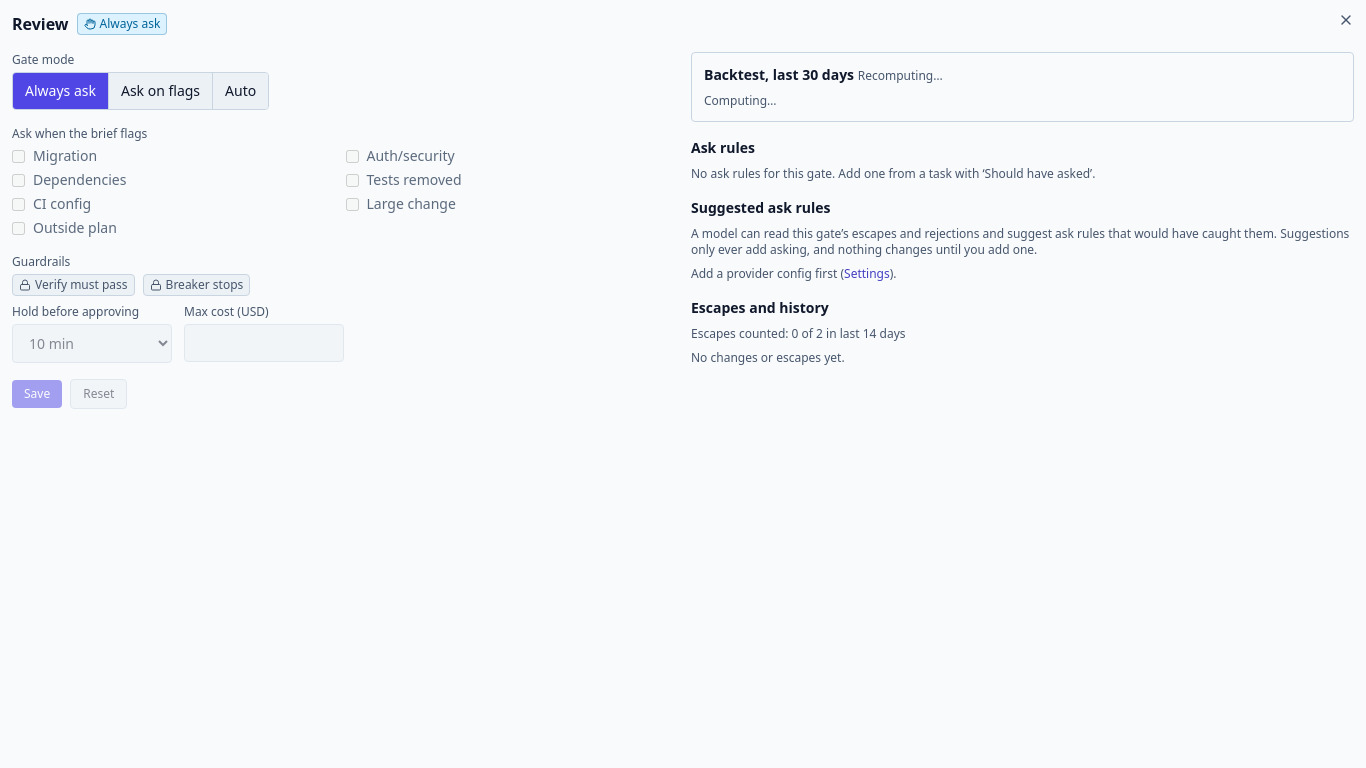
Test case: GateDialPanel › shows server errors inline
Click the radio button labelled "Auto": (240, 91) [212,73,268,109]
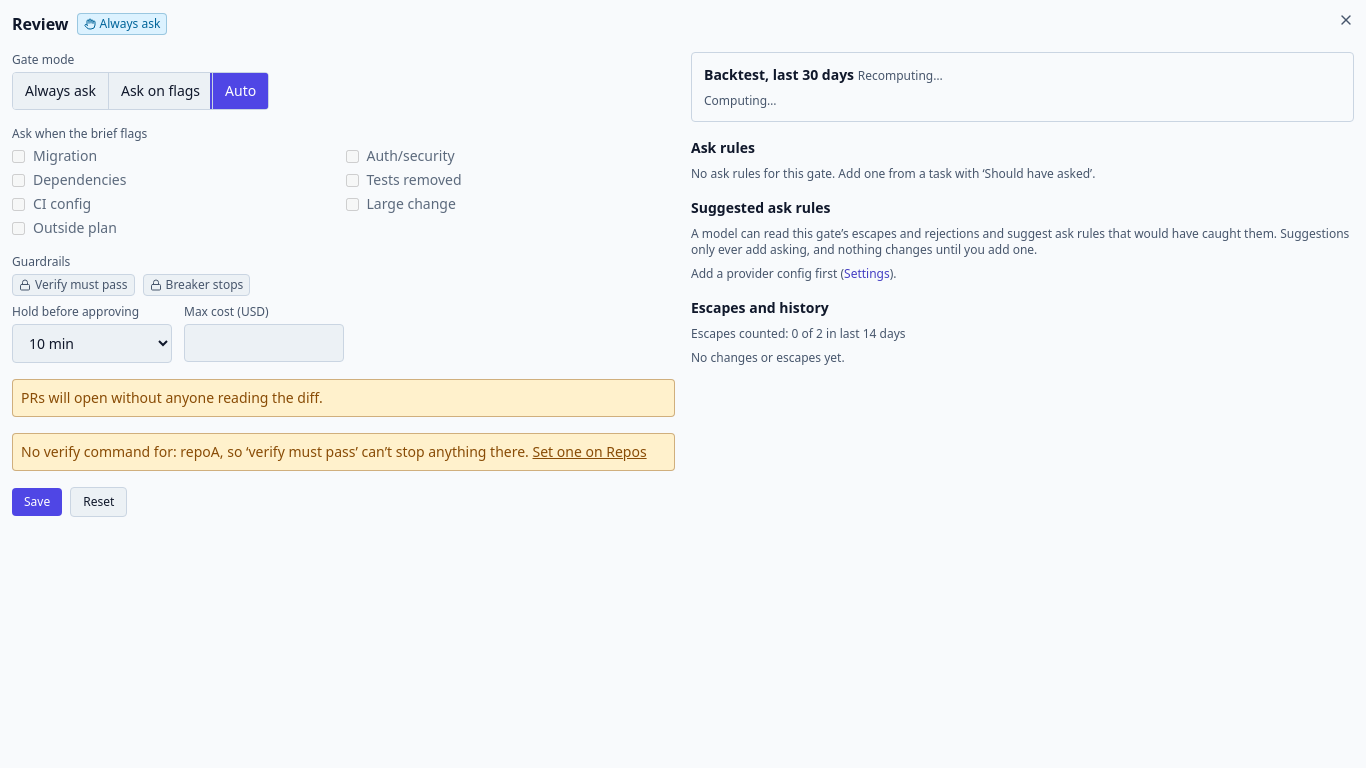
Click the button "Save": (37, 502) [12,488,62,516]
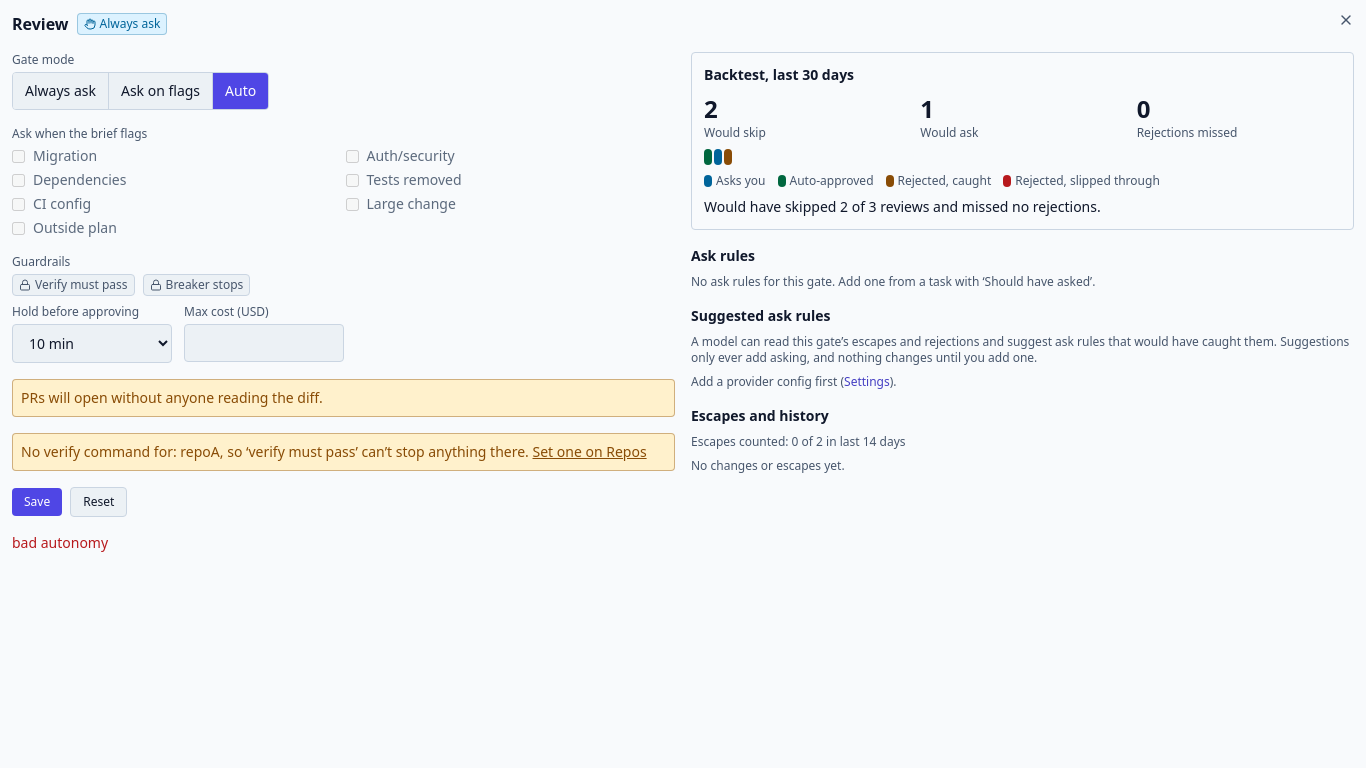
Check: the message "bad autonomy" is shown, box [12,533,108,552]
